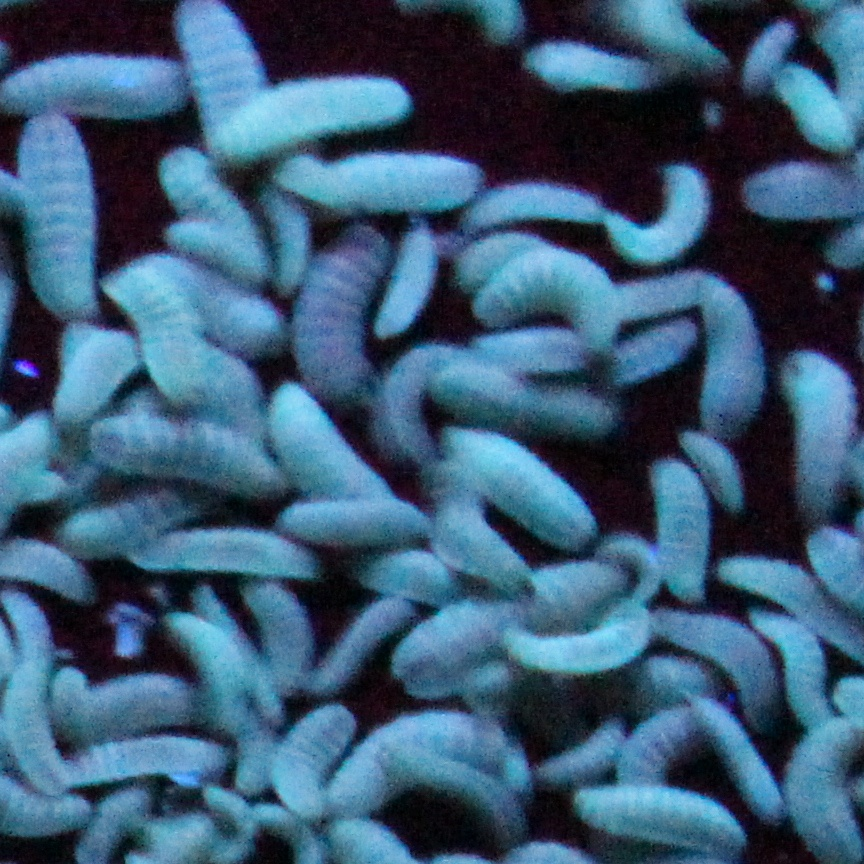larve: (385, 562, 634, 693), (334, 713, 529, 822), (441, 420, 596, 543), (27, 115, 110, 329), (89, 410, 291, 493), (289, 236, 389, 401), (104, 268, 223, 406), (220, 75, 410, 158), (680, 684, 784, 829), (273, 384, 396, 506), (477, 248, 623, 350), (779, 346, 858, 532), (570, 782, 761, 856), (432, 474, 534, 598), (501, 598, 658, 672), (163, 610, 253, 736), (304, 594, 413, 698), (697, 274, 763, 441), (442, 368, 616, 427), (529, 37, 684, 103), (301, 158, 496, 210), (377, 339, 444, 486), (606, 162, 706, 260), (125, 529, 322, 575), (647, 463, 710, 606), (13, 662, 73, 801), (68, 737, 232, 784), (284, 705, 354, 815), (70, 675, 206, 731), (463, 184, 611, 234), (375, 222, 439, 334), (779, 65, 858, 150), (53, 339, 135, 418), (284, 505, 432, 546), (172, 222, 272, 281), (679, 427, 747, 513), (542, 724, 630, 786)
